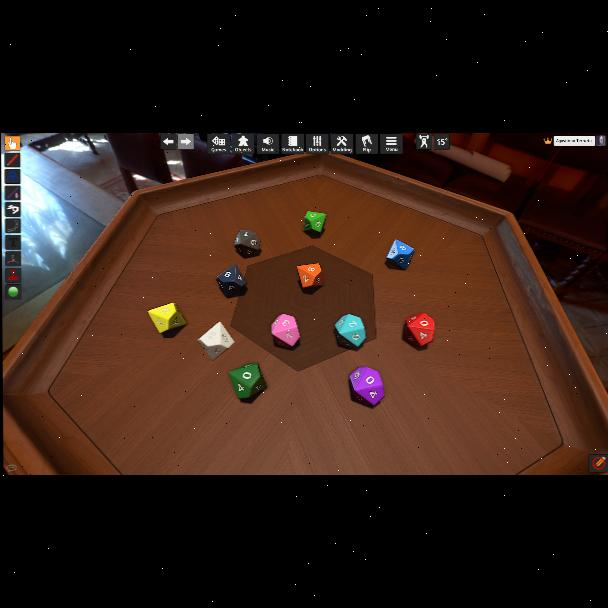d10: (197, 320, 232, 360), (228, 363, 265, 400), (348, 366, 382, 406), (148, 304, 186, 334), (403, 312, 434, 348), (334, 314, 365, 349), (272, 312, 301, 348), (215, 266, 245, 298), (385, 240, 413, 270), (233, 228, 260, 258), (296, 263, 322, 289), (304, 212, 326, 234)
